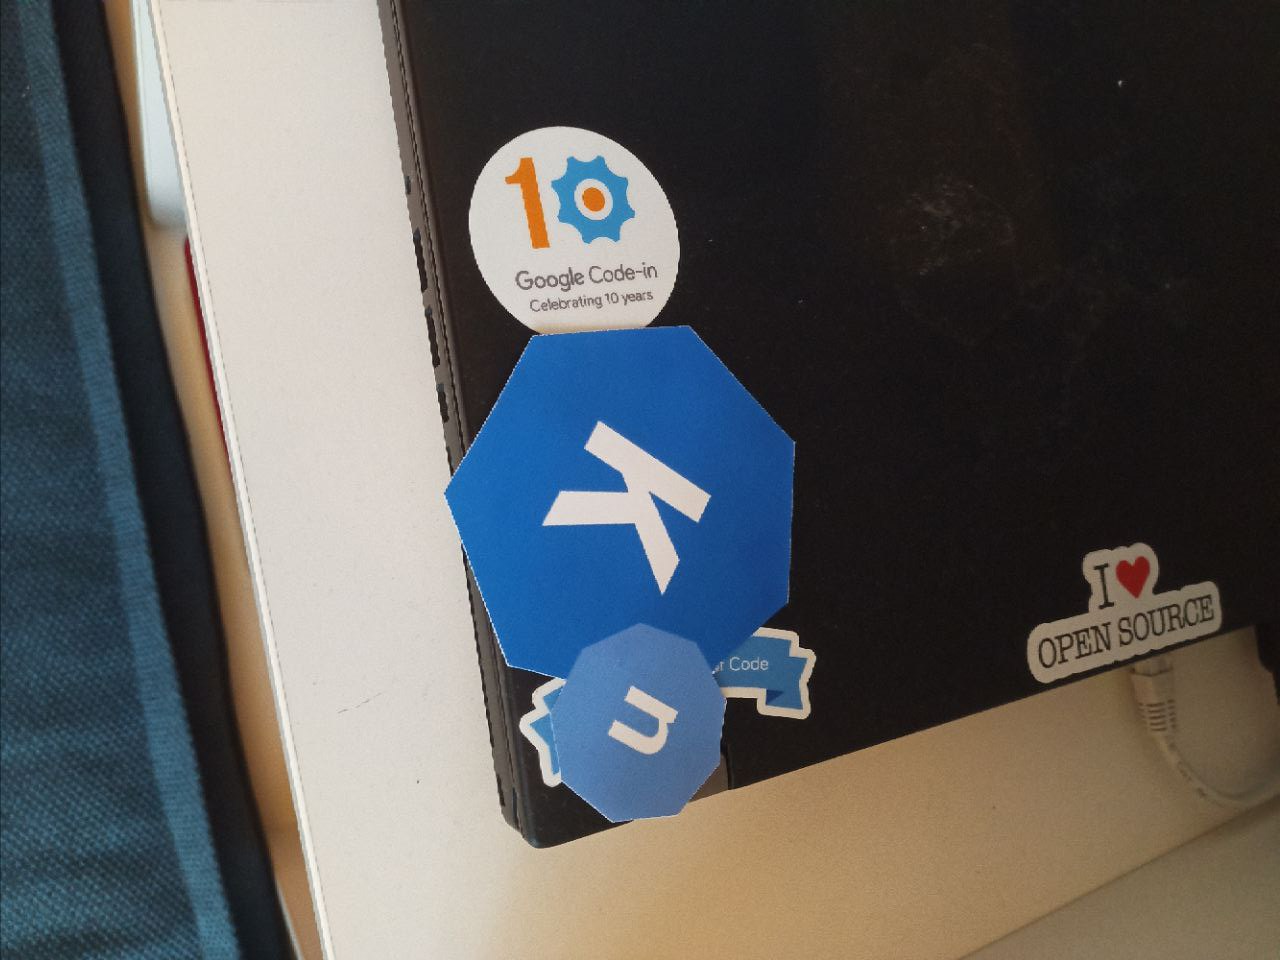knative: (445, 327, 796, 821)
